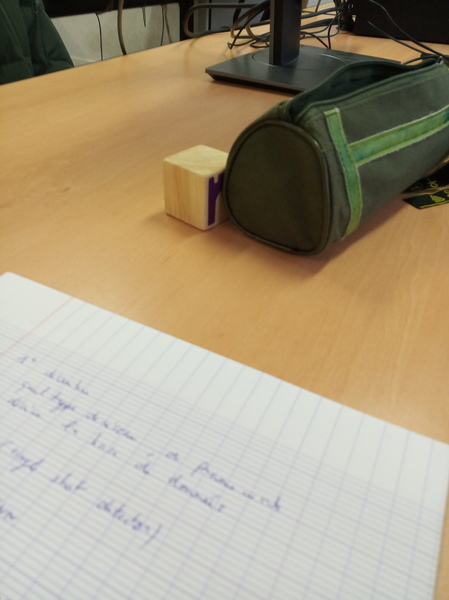violet: (160, 147, 225, 227)
